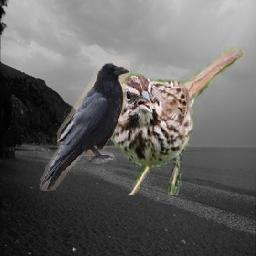Crow: (40, 61, 131, 192)
Sparrow: (109, 47, 246, 196)
